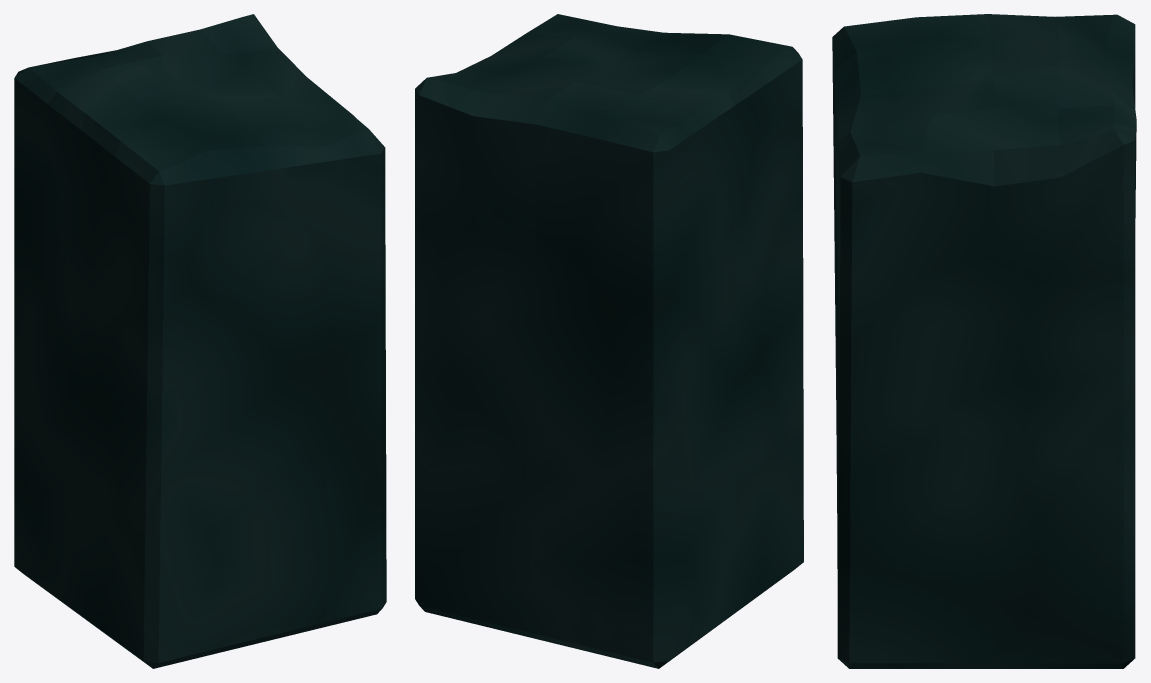
Rendered from bigwall.fbx.
3 renders of one model, left to right at view 1: azimuth 30°, elevation 25°; view 2: azimuth 150°, elevation 25°; view 3: azimuth 270°, elevation 25°, orthographic. The views are drawn at different scales.
Parts seen in each view (by area): view 1: bigwall; view 2: bigwall; view 3: bigwall.
Boxes of the visible parts, left/top/right/bottom form: bigwall: left=14, top=14, right=386, bottom=668; bigwall: left=415, top=14, right=803, bottom=668; bigwall: left=832, top=14, right=1136, bottom=668.
Bounding box in the file's own units: 200 × 405 × 205.
1 material, 1 textured.
